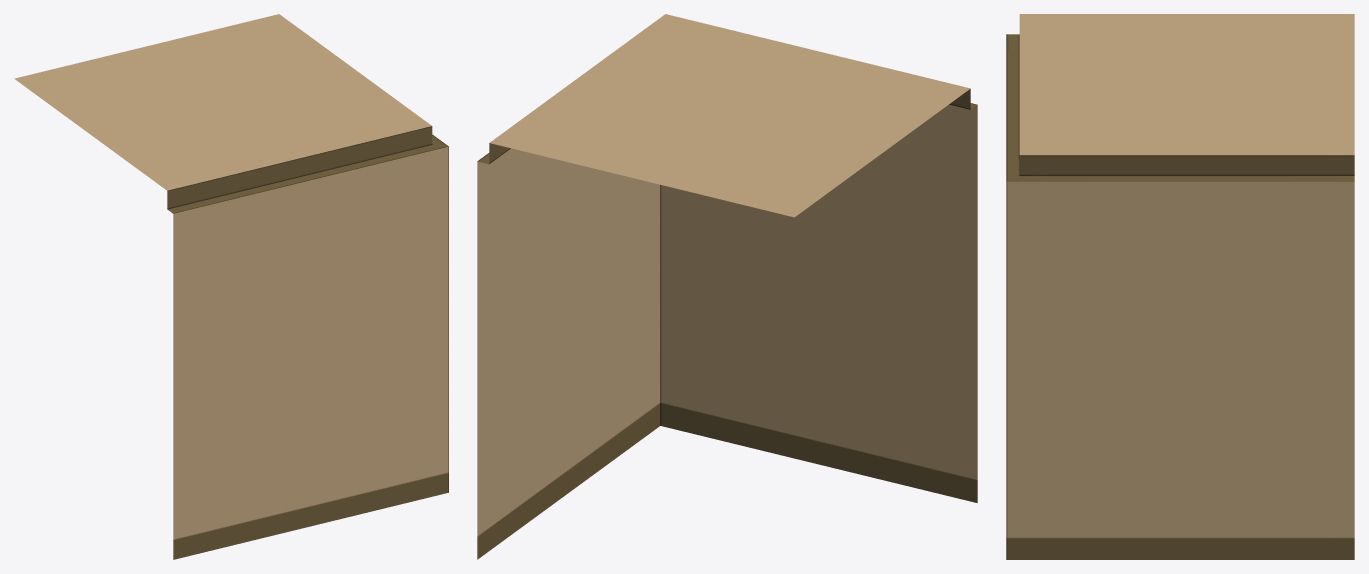
Rendered from wall_corner.fbx.
3 renders of one model, left to right at view 1: azimuth 30°, elevation 25°; view 2: azimuth 150°, elevation 25°; view 3: azimuth 270°, elevation 25°, orthographic. The views are drawn at different scales.
Visible parts, largest first — view 1: polySurface1657; view 2: polySurface1657; view 3: polySurface1657.
Part boxes in pixels (x1,y1,x2,y2): polySurface1657: (14, 14, 448, 559); polySurface1657: (477, 14, 977, 559); polySurface1657: (1006, 14, 1354, 559).
Size of the model in its own units: 2.5 by 3.16 by 2.5.
